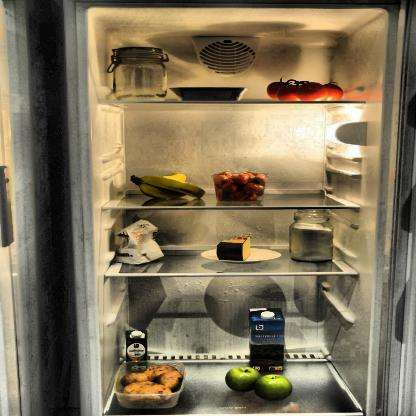apple: (223, 364, 297, 402)
banana: (124, 168, 206, 202)
cheese: (215, 234, 254, 262)
heavy_cream: (124, 331, 151, 372)
milk: (248, 308, 287, 375)
potato: (115, 362, 182, 408)
strawberries: (212, 170, 271, 204)
tomato: (263, 74, 345, 102)
